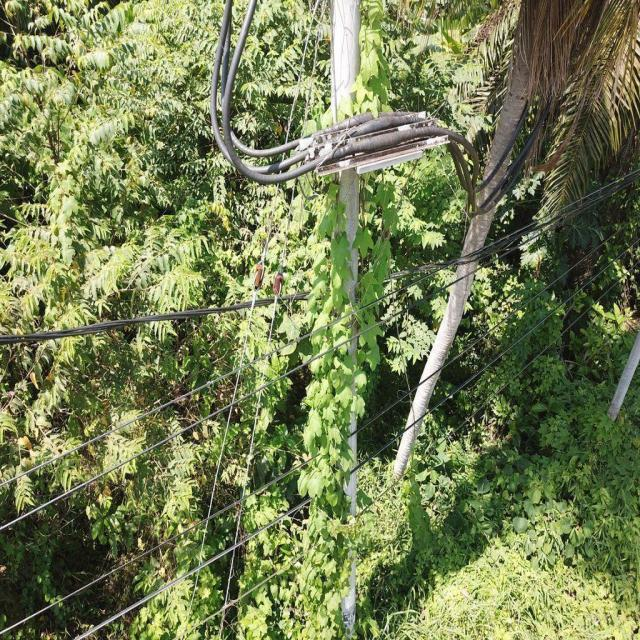critical vegetation: (282, 34, 402, 621)
